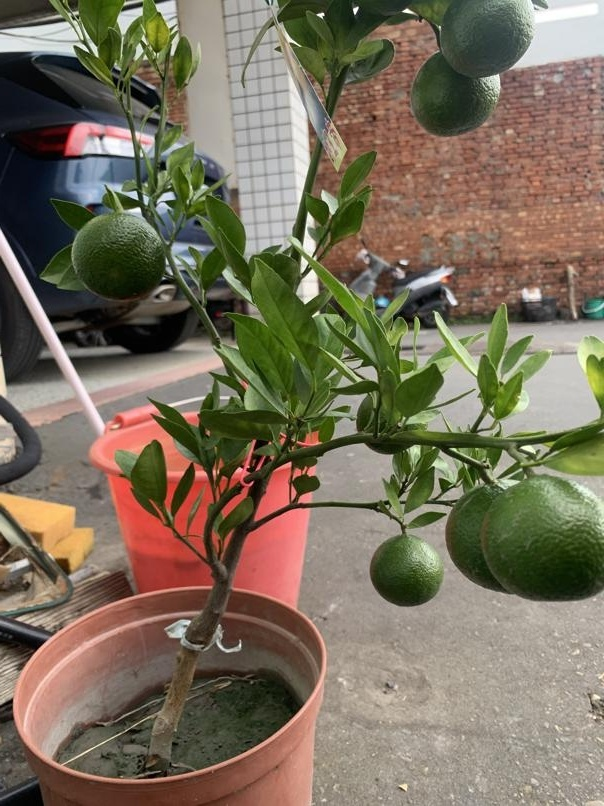Tangerine: (460, 466, 604, 599), (69, 206, 166, 302), (411, 46, 502, 137), (437, 0, 535, 79), (367, 526, 446, 606)
